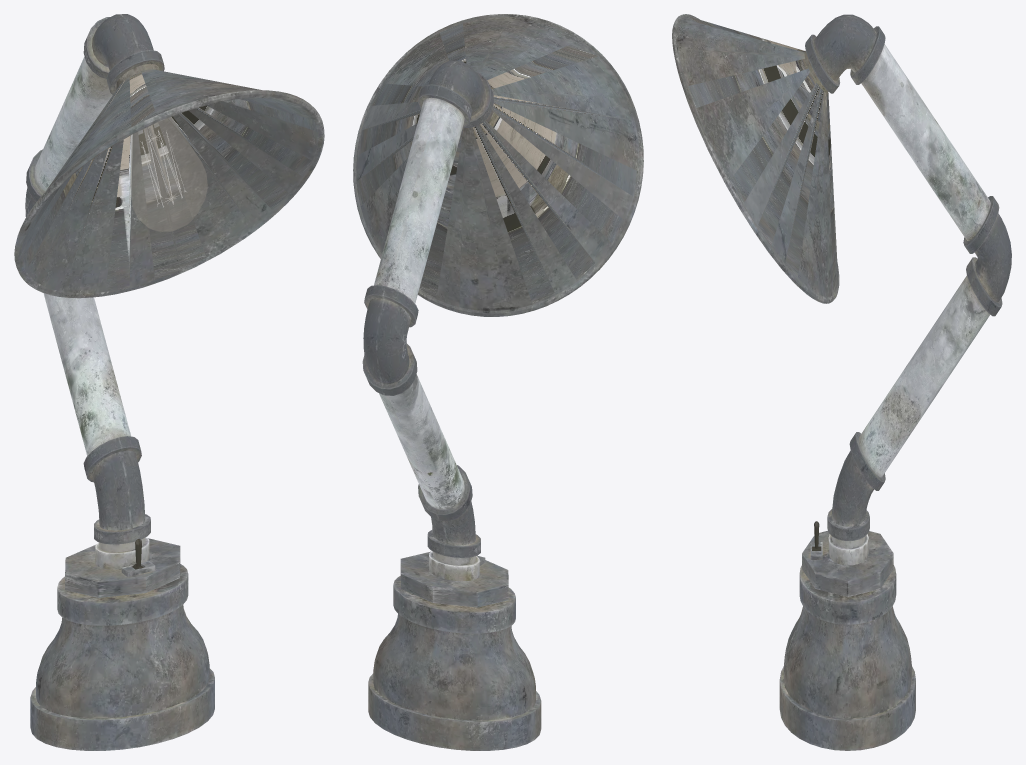
File: industrial_pipe_lamp_lod1.glb
3 renders of one model, left to right at view 1: azimuth 30°, elevation 25°; view 2: azimuth 150°, elevation 25°; view 3: azimuth 270°, elevation 25°, orthographic. The views are drawn at different scales.
Visible parts, largest first — view 1: industrial_pipe_lamp, industrial_pipe_lamp_bulb; view 2: industrial_pipe_lamp; view 3: industrial_pipe_lamp.
Part boxes in pixels (box(x1,y1,x2,y2)): industrial_pipe_lamp: box(14, 14, 324, 750); industrial_pipe_lamp_bulb: box(130, 117, 207, 231); industrial_pipe_lamp: box(353, 14, 643, 750); industrial_pipe_lamp: box(672, 14, 1011, 750).
Size of the model in its own units: 0.2 by 0.45 by 0.2.
Materials: 2 (2 with a texture image).
